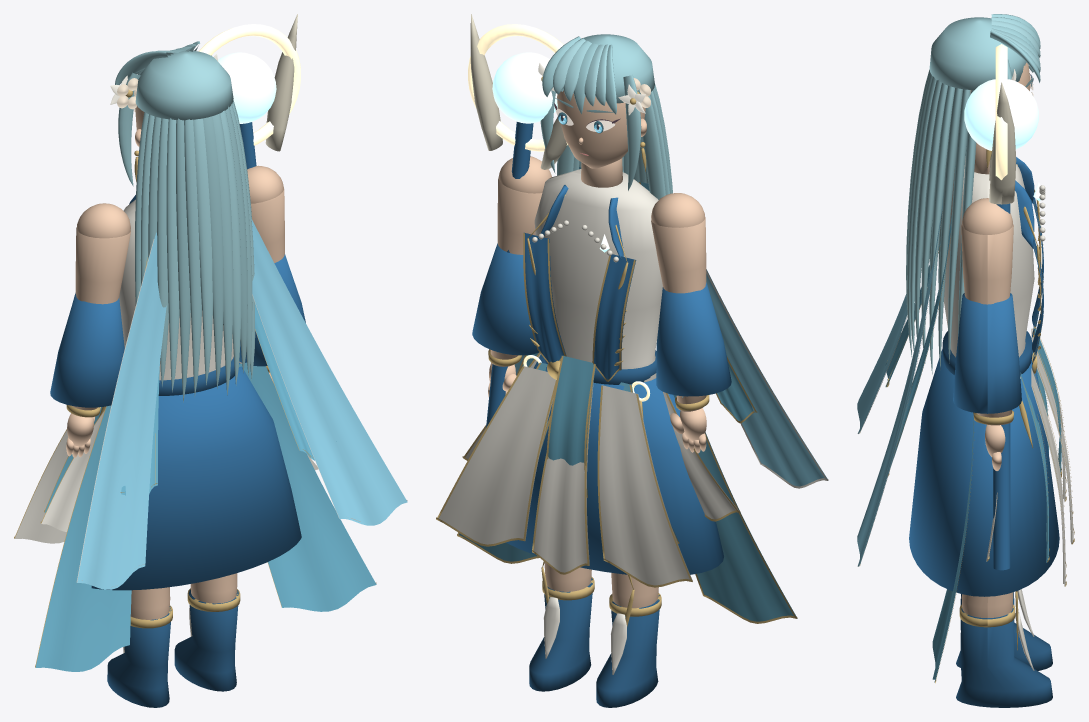
Rendered from character_02.glb.
The picture shows the model from 3 angles, left to right: view 1: azimuth 30°, elevation 25°; view 2: azimuth 150°, elevation 25°; view 3: azimuth 270°, elevation 25°; orthographic projection. The views are drawn at different scales.
Visible parts, largest first — view 1: _MeshInstance3D_761, _MeshInstance3D_829, _MeshInstance3D_793, _MeshInstance3D_795, _MeshInstance3D_768, _MeshInstance3D_830, _MeshInstance3D_766, _MeshInstance3D_831, _MeshInstance3D_802, _MeshInstance3D_801, _MeshInstance3D_806, _MeshInstance3D_798 (+13 smaller); view 2: _MeshInstance3D_757, _MeshInstance3D_762, _MeshInstance3D_761, _MeshInstance3D_764, _MeshInstance3D_802, _MeshInstance3D_810, _MeshInstance3D_829, _MeshInstance3D_801, _MeshInstance3D_793, _MeshInstance3D_766, _MeshInstance3D_783, _MeshInstance3D_798 (+29 smaller); view 3: _MeshInstance3D_761, _MeshInstance3D_829, _MeshInstance3D_810, _MeshInstance3D_806, _MeshInstance3D_809, _MeshInstance3D_830, _MeshInstance3D_831, _MeshInstance3D_757, _MeshInstance3D_812, _MeshInstance3D_795, _MeshInstance3D_813, _MeshInstance3D_793 (+18 smaller).
Boxes of the visible parts, x1,y1,x2,y2 form: _MeshInstance3D_761: (91, 195, 301, 590); _MeshInstance3D_829: (115, 41, 254, 392); _MeshInstance3D_793: (77, 232, 166, 589); _MeshInstance3D_795: (251, 219, 407, 525); _MeshInstance3D_768: (239, 362, 376, 611); _MeshInstance3D_830: (135, 104, 252, 396); _MeshInstance3D_766: (35, 405, 131, 671); _MeshInstance3D_831: (148, 100, 255, 402); _MeshInstance3D_802: (50, 293, 124, 407); _MeshInstance3D_801: (66, 203, 130, 457); _MeshInstance3D_806: (174, 589, 238, 691); _MeshInstance3D_798: (107, 606, 171, 707); _MeshInstance3D_757: (532, 169, 662, 382); _MeshInstance3D_762: (599, 385, 692, 585); _MeshInstance3D_761: (506, 185, 723, 574); _MeshInstance3D_764: (439, 366, 555, 544); _MeshInstance3D_802: (656, 282, 731, 396); _MeshInstance3D_810: (472, 122, 539, 427); _MeshInstance3D_829: (540, 34, 669, 194); _MeshInstance3D_801: (651, 193, 706, 453); _MeshInstance3D_793: (647, 183, 827, 486); _MeshInstance3D_766: (673, 395, 797, 621); _MeshInstance3D_783: (534, 382, 593, 572); _MeshInstance3D_798: (596, 595, 659, 707); _MeshInstance3D_761: (909, 157, 1059, 596); _MeshInstance3D_829: (910, 14, 1040, 374); _MeshInstance3D_810: (953, 203, 1021, 570); _MeshInstance3D_806: (956, 608, 1052, 707); _MeshInstance3D_809: (961, 198, 1013, 470); _MeshInstance3D_830: (907, 73, 970, 363); _MeshInstance3D_831: (906, 70, 962, 369); _MeshInstance3D_757: (944, 156, 1045, 357); _MeshInstance3D_812: (964, 79, 1038, 150); _MeshInstance3D_795: (857, 193, 943, 566); _MeshInstance3D_813: (989, 82, 1016, 204); _MeshInstance3D_793: (857, 294, 907, 433).
Size of the model in its own units: 1.3 by 2.33 by 0.6917.
